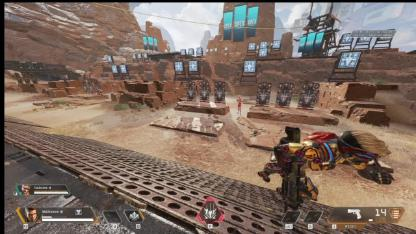Target: (257, 121, 393, 207), (235, 93, 243, 114)
